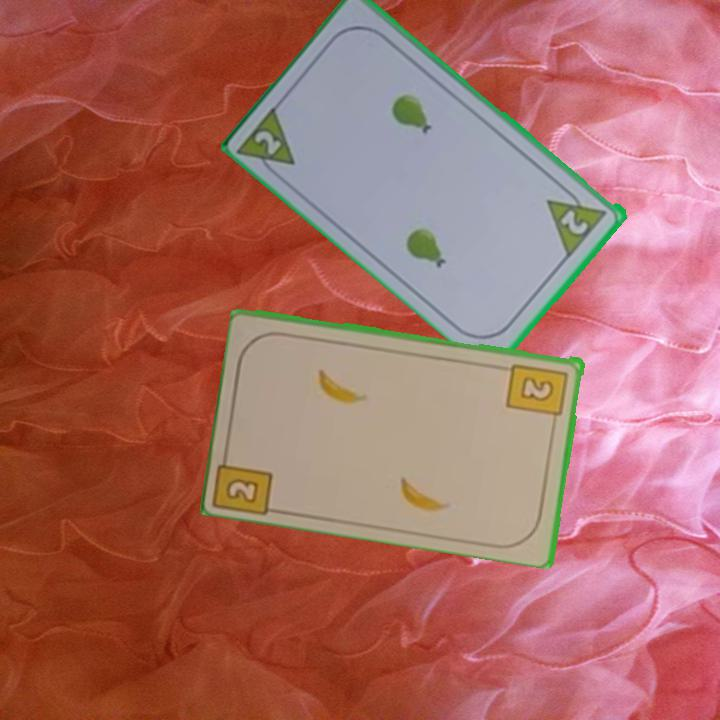2b: (213, 443, 277, 516), (504, 359, 571, 427)
2p: (557, 205, 592, 238), (251, 126, 285, 158)
